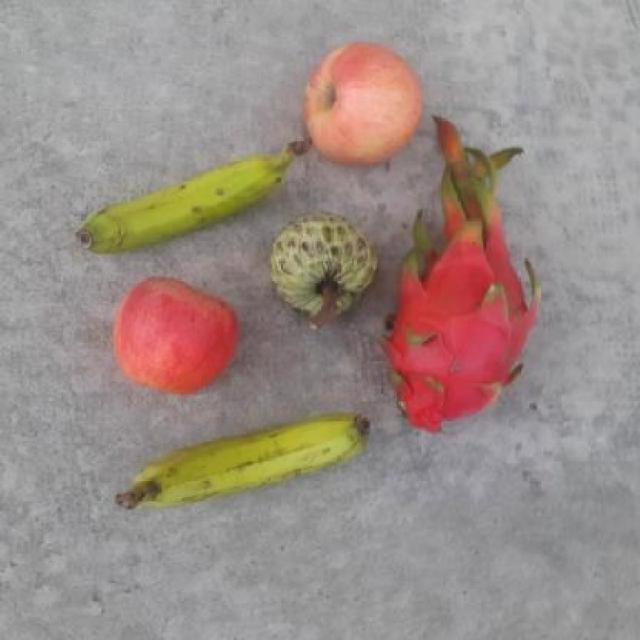apple: (110, 273, 241, 396), (300, 40, 425, 168)
banana: (73, 136, 312, 256), (116, 412, 373, 512)
dragon fruit: (374, 202, 540, 436)
sugar apple: (271, 208, 378, 320)
